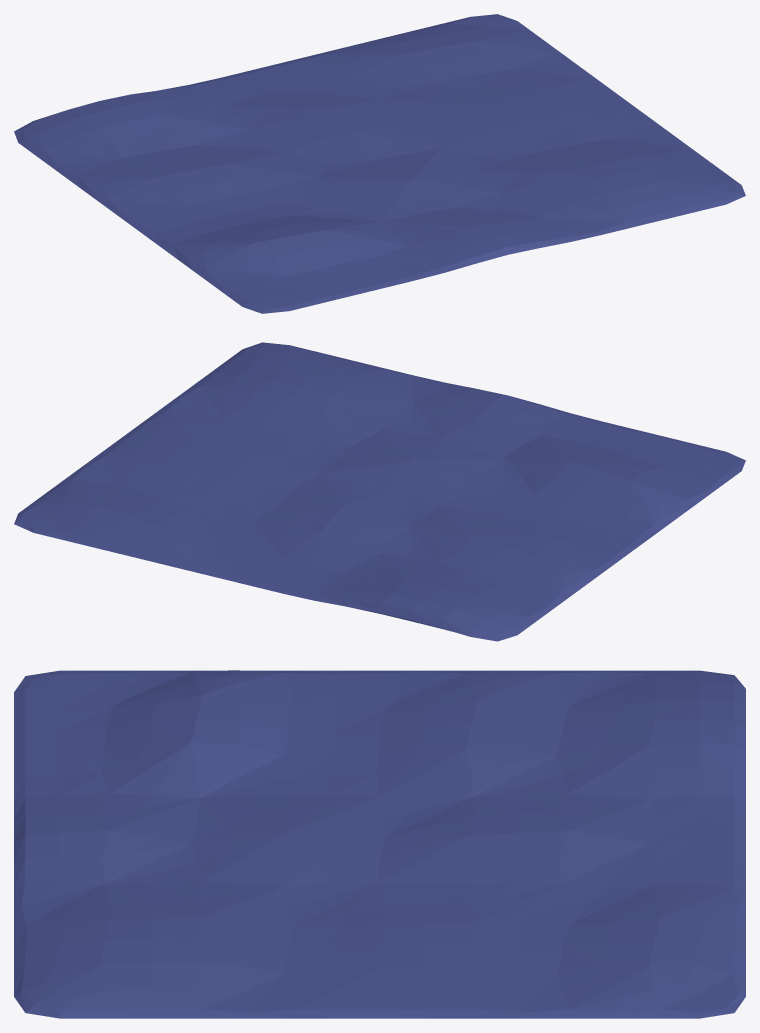
Rendered from Alfombra.obj.
3 views of the same model, one above another, from view 1: azimuth 30°, elevation 25°; view 2: azimuth 150°, elevation 25°; view 3: azimuth 270°, elevation 25° (orthographic). The views are drawn at different scales.
Visible parts, largest first — view 1: Mesh1Group1Model; view 2: Mesh1Group1Model; view 3: Mesh1Group1Model.
Part boxes in pixels (bbox=[...]): Mesh1Group1Model: bbox=[14, 14, 745, 313]; Mesh1Group1Model: bbox=[14, 342, 745, 641]; Mesh1Group1Model: bbox=[14, 670, 745, 1018].
Bounding box in the file's own units: 2.61 × 0.0725 × 2.32.
1 material, 1 textured.
